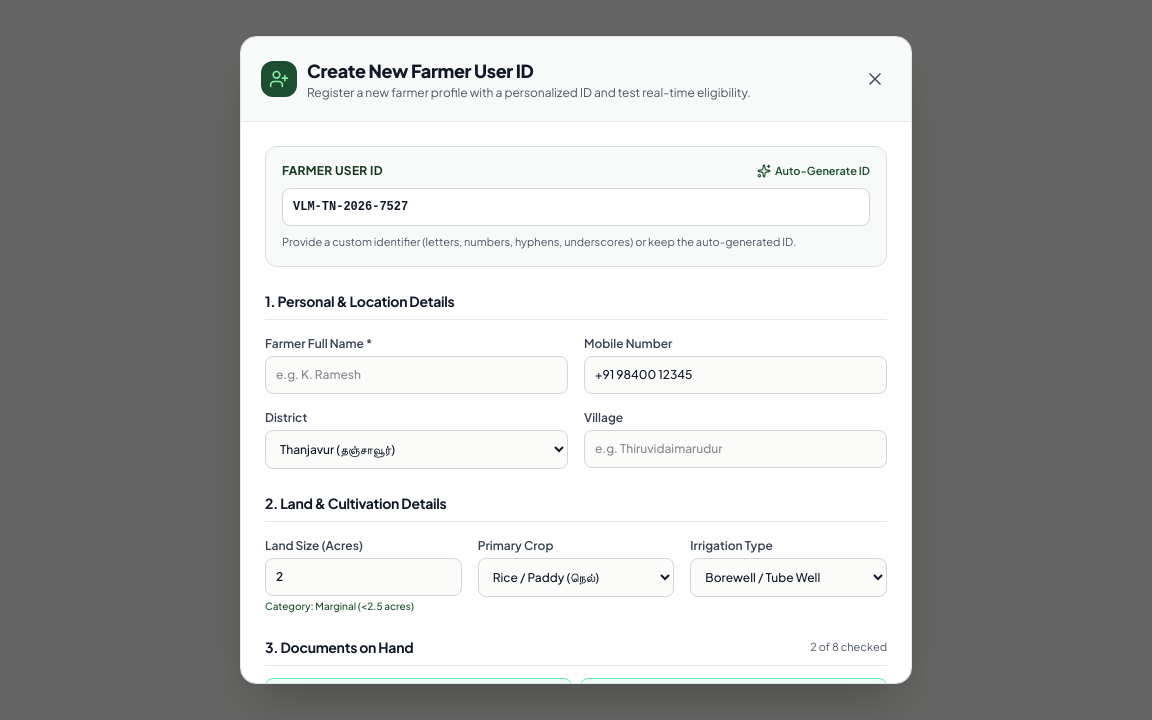
Test: CreateFarmerModal component › validates required fields and saves a new farmer digital ID
Type "Karthik Subramanian" into the field labelled "Farmer Full Name *". click: [416, 375]
box: [265, 356, 568, 394]
(page scrolled)
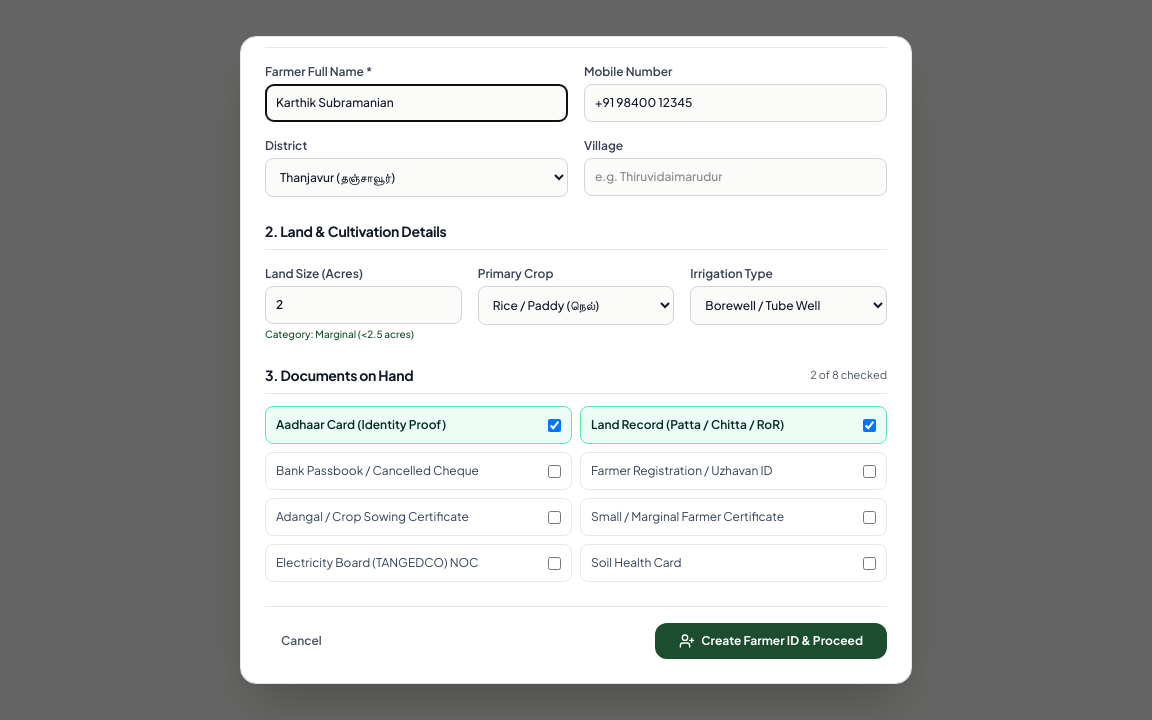
Click the button "Create Farmer ID & Proceed". click: [771, 641]
box: [655, 623, 887, 659]
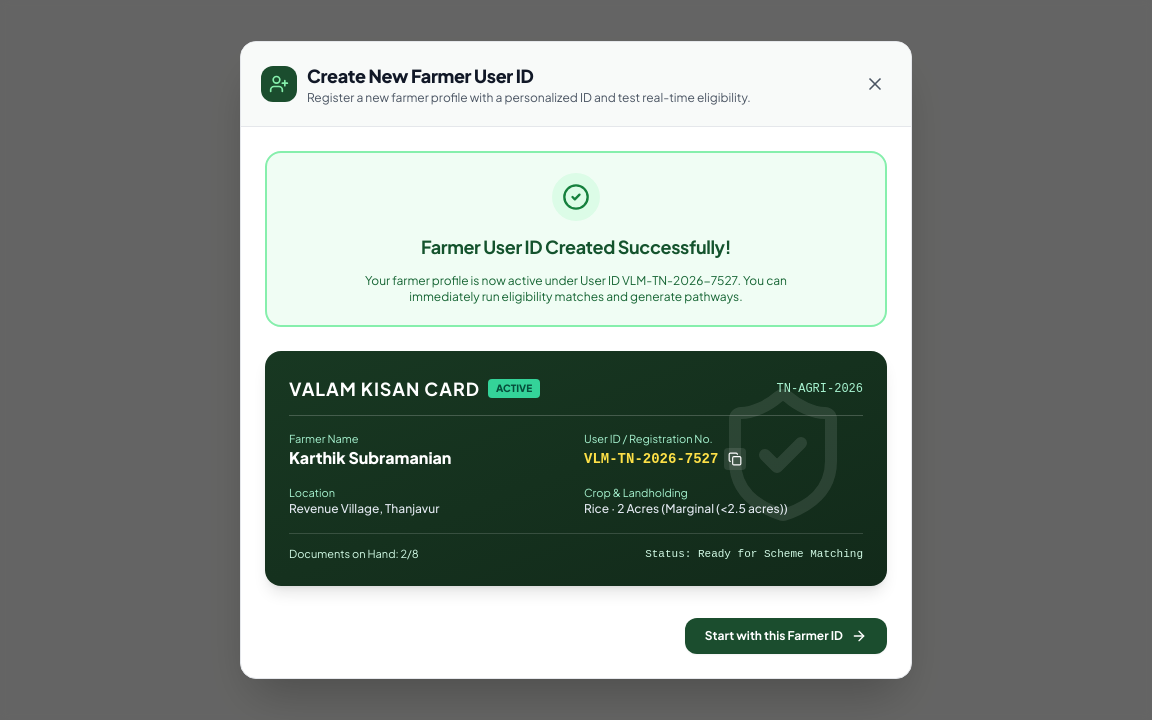
Check: the heading "Farmer User ID Created Successfully!" is shown, box [421, 235, 731, 258]
